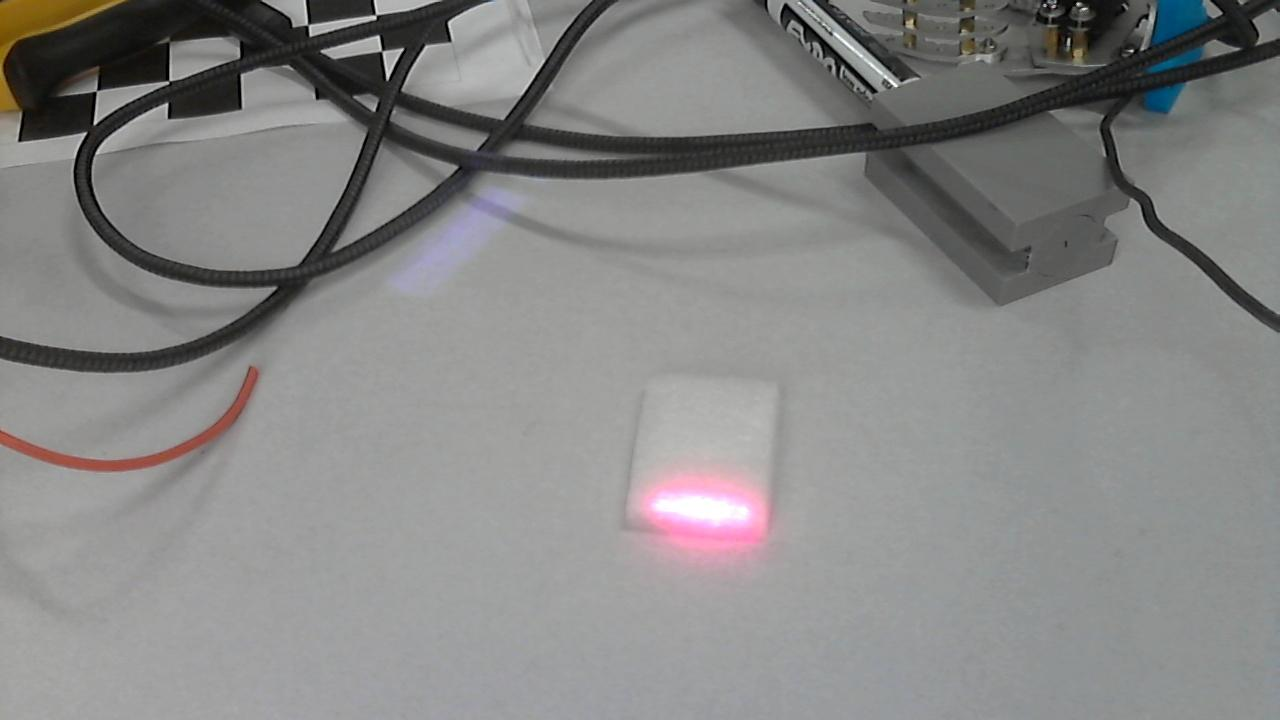Object white rectangular foam block - Material Foam - Color white - Pdfname LpbA: (646, 477, 761, 540)
